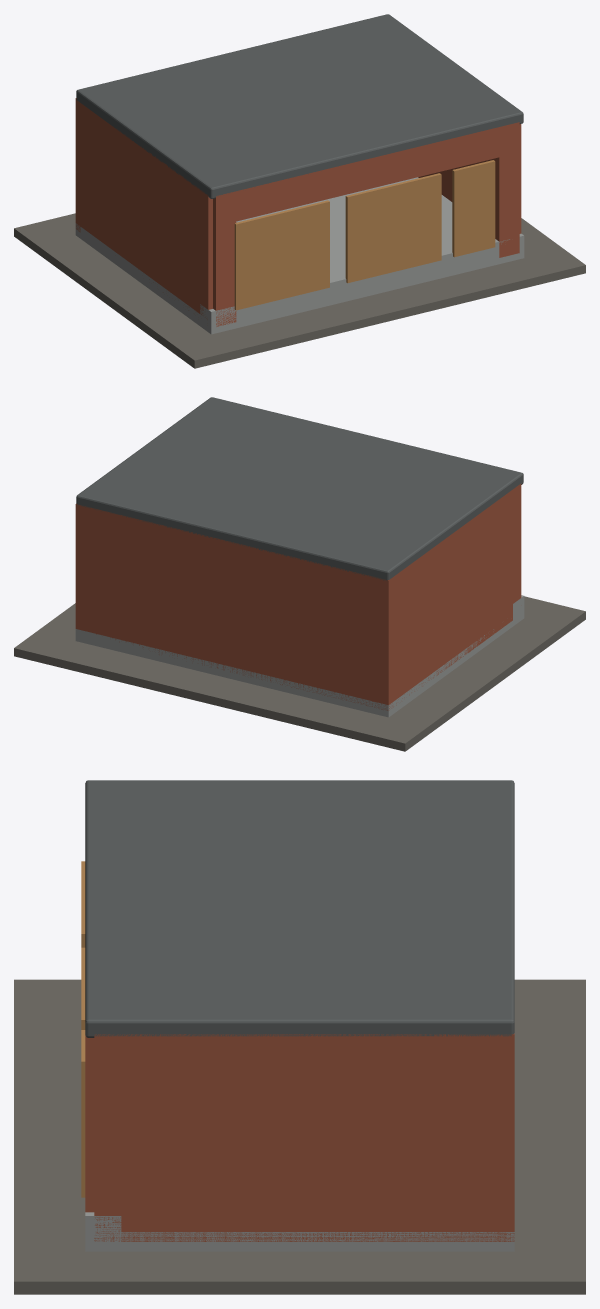
The model's file is CafeStage 4.glb.
3 renders of one model, top to bottom at view 1: azimuth 30°, elevation 25°; view 2: azimuth 150°, elevation 25°; view 3: azimuth 270°, elevation 25°, orthographic. The views are drawn at different scales.
Visible parts, largest first — view 1: FlatRoof, CafeWalls, BoardedStorefront, TileBase_10x8.003, CafeFoundation.002; view 2: CafeWalls, FlatRoof, TileBase_10x8.003, CafeFoundation.002; view 3: FlatRoof, CafeWalls, TileBase_10x8.003, CafeFoundation.002, BoardedStorefront.
Part boxes in pixels (x1=…): FlatRoof: x1=76, y1=14, x2=523, y2=198; CafeWalls: x1=75, y1=98, x2=521, y2=326; BoardedStorefront: x1=234, y1=160, x2=495, y2=310; TileBase_10x8.003: x1=14, y1=213, x2=585, y2=368; CafeFoundation.002: x1=75, y1=177, x2=524, y2=334; CafeWalls: x1=75, y1=483, x2=521, y2=710; FlatRoof: x1=76, y1=397, x2=523, y2=580; TileBase_10x8.003: x1=14, y1=596, x2=585, y2=751; CafeFoundation.002: x1=75, y1=595, x2=524, y2=717; FlatRoof: x1=85, y1=780, x2=514, y2=1037; CafeWalls: x1=85, y1=1033, x2=514, y2=1241; TileBase_10x8.003: x1=14, y1=979, x2=585, y2=1294; CafeFoundation.002: x1=85, y1=1212, x2=514, y2=1251; BoardedStorefront: x1=81, y1=861, x2=85, y2=1197.
Bounding box in the file's own units: 10 × 3.76 × 8.
